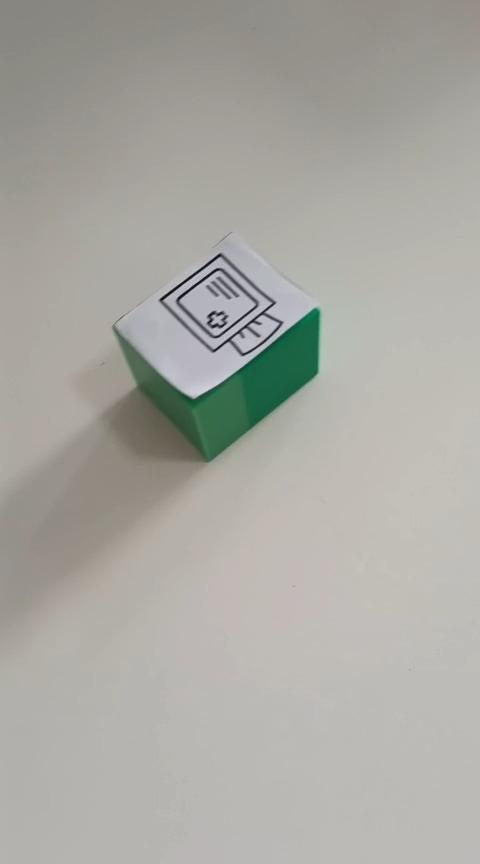Gauze: (111, 228, 321, 462)
